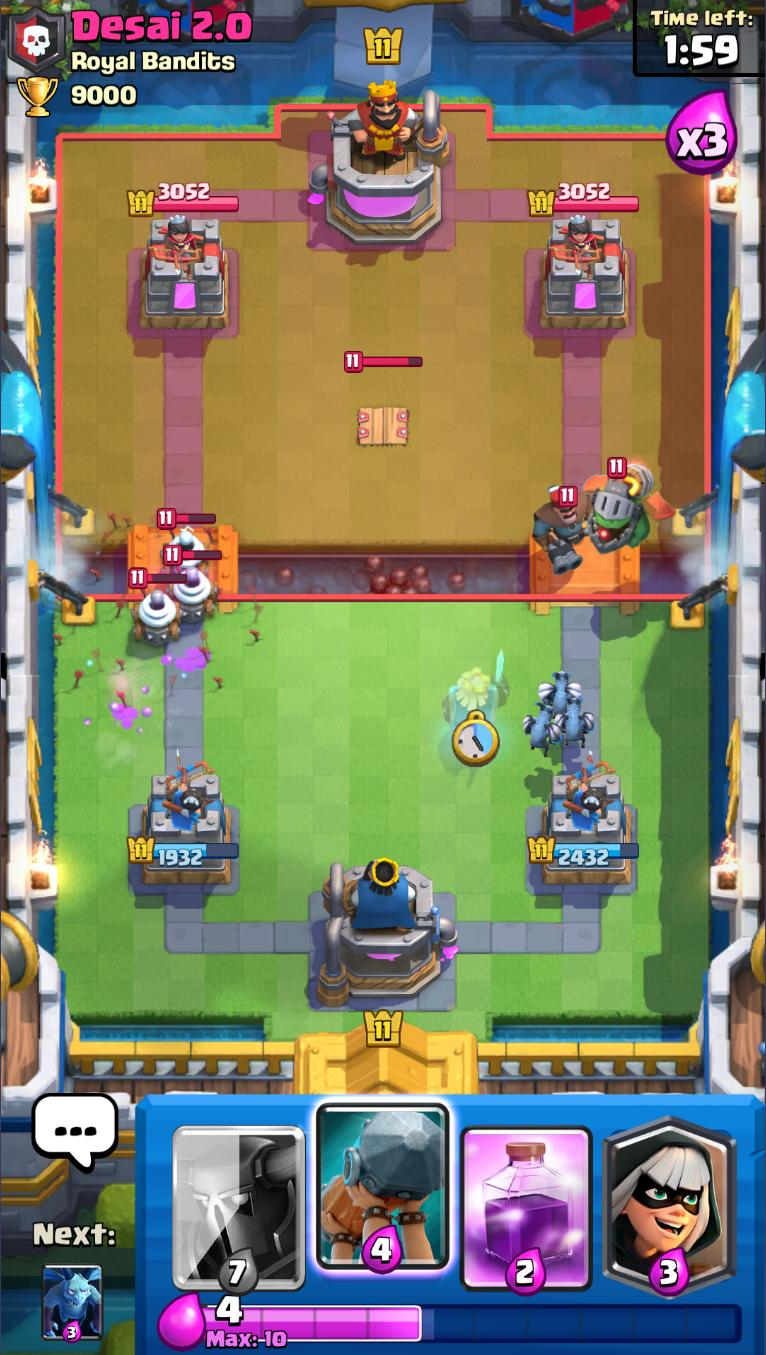Arrows: (21, 516, 273, 715)
BanditDeck: (598, 1095, 743, 1296)
BattleRamDeck: (312, 1096, 453, 1298)
Elixir: (202, 1294, 743, 1349)
EnemyTower: (138, 215, 232, 331), (539, 215, 632, 331)
Hunter: (530, 484, 597, 573)
InfernoDragon: (581, 458, 677, 555)
KingTower: (310, 79, 451, 248)
MiniGenerator: (127, 567, 186, 647), (154, 508, 217, 579), (164, 543, 224, 617)
MinionsNext: (41, 1264, 104, 1342)
MyKingTower: (316, 856, 459, 1009)
MyMinion: (550, 697, 600, 748), (521, 702, 566, 755), (539, 669, 582, 717)
MyPrincessTower: (125, 771, 242, 889), (528, 770, 641, 889)
MyPrincessTowerHP: (125, 835, 241, 868), (527, 835, 641, 868)
MyRoyaleGhost: (440, 651, 512, 733)
PekkaDeck: (166, 1096, 312, 1294)
PrincessTower: (149, 215, 203, 277), (550, 216, 603, 274)
RageDeck: (454, 1097, 598, 1296)
TeslaHidden: (341, 349, 424, 448)
TowerPrincessHP: (127, 182, 240, 217), (528, 182, 641, 216)
